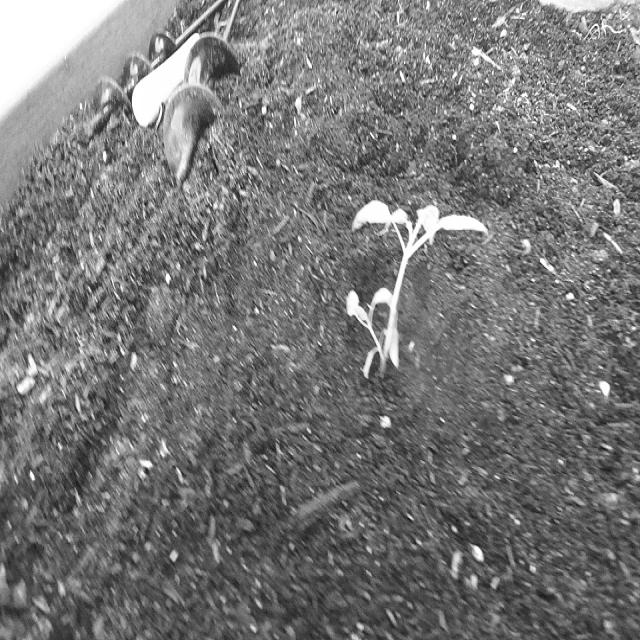Healthy: (337, 178, 493, 396)
